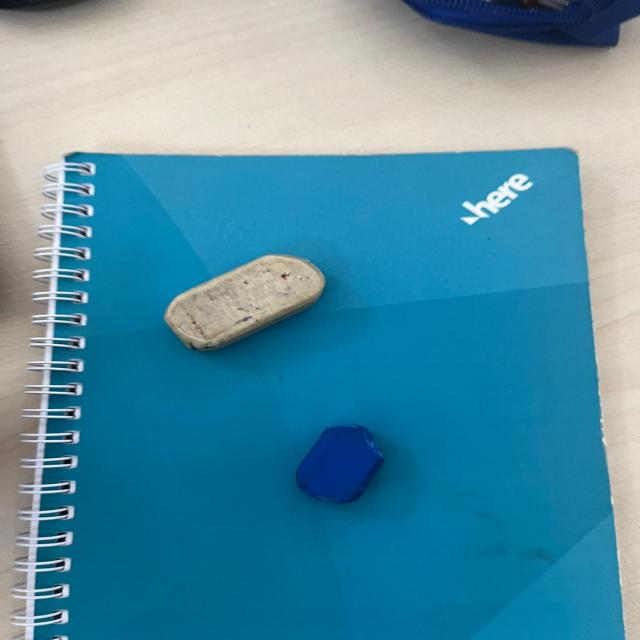eraser: (150, 247, 338, 356), (284, 414, 405, 503)
